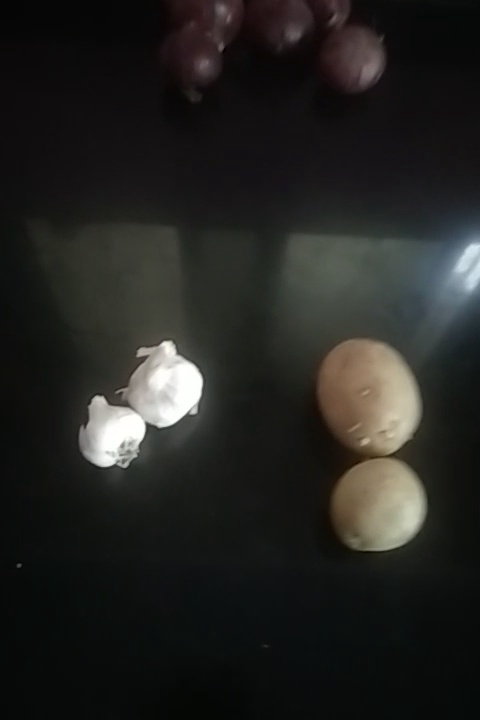garlic: (120, 349, 205, 429), (73, 389, 140, 477)
onion: (158, 27, 226, 108), (244, 3, 320, 58), (162, 1, 249, 48), (323, 31, 374, 98)
potato: (319, 335, 424, 465), (334, 467, 430, 558)
